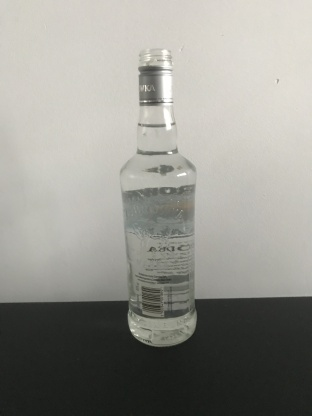nakretka: (136, 46, 174, 106)
